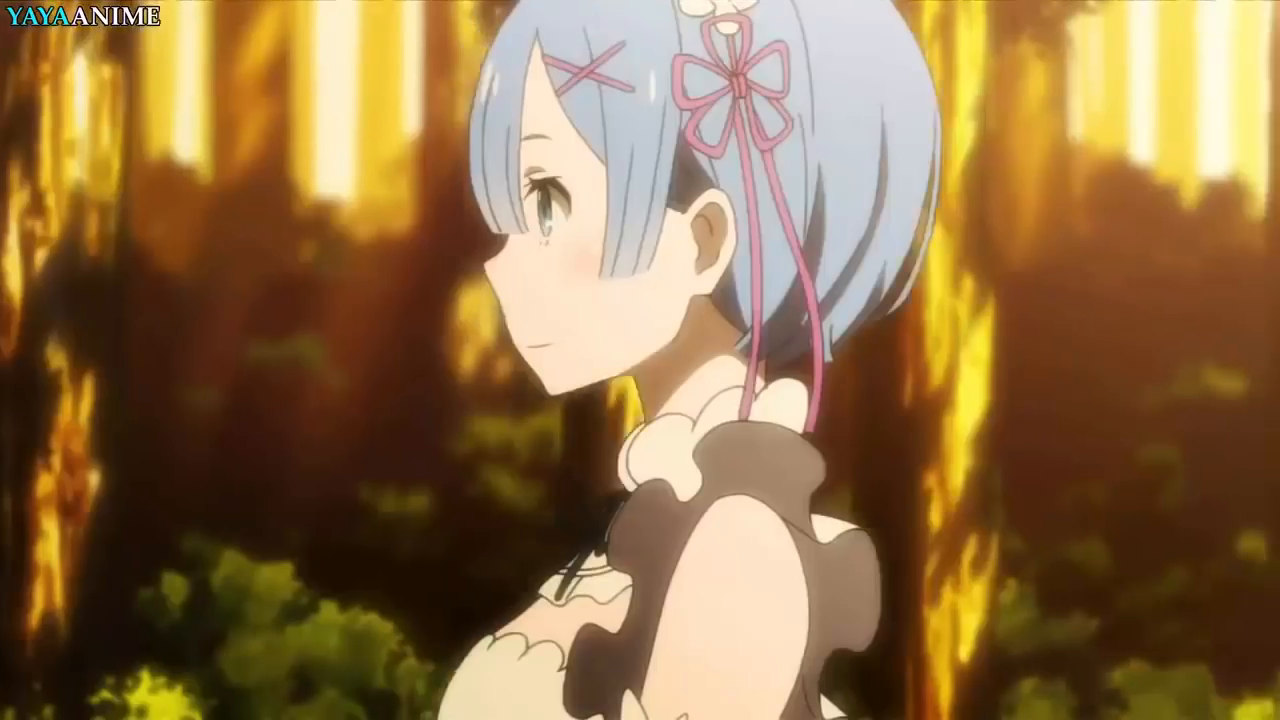REM: (469, 1, 938, 402)
